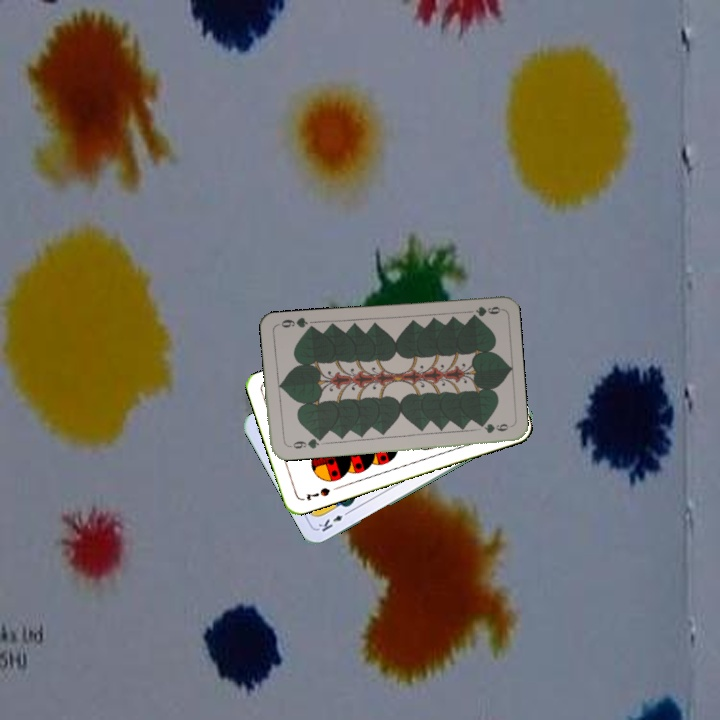EK: (314, 506, 353, 534)
G9: (284, 433, 324, 451), (466, 302, 503, 321)
S7: (302, 483, 333, 503)
